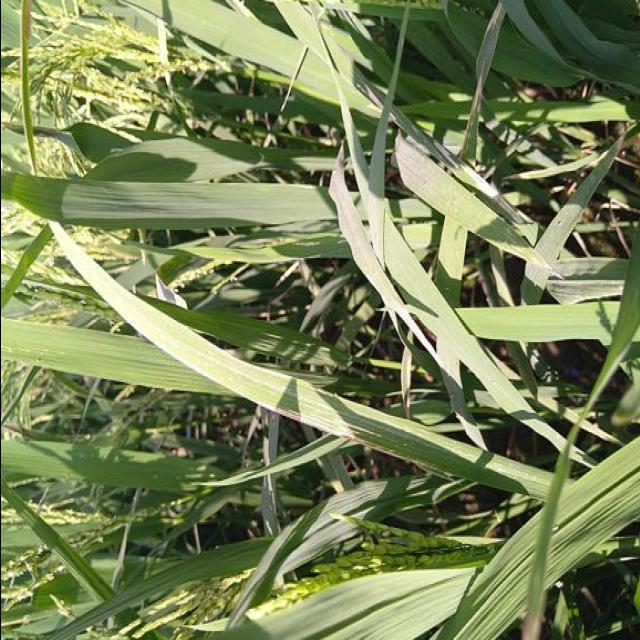Leaf Blight: (519, 465, 564, 640)
Leaf Streak: (171, 320, 457, 479), (393, 109, 533, 240), (534, 136, 622, 265), (394, 136, 493, 227), (463, 1, 508, 162), (384, 417, 499, 467), (548, 257, 629, 304), (525, 262, 551, 304)
